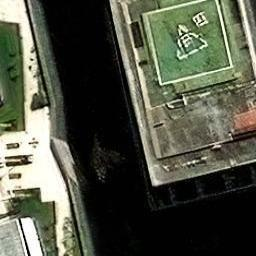heliponto: (145, 0, 232, 86)
